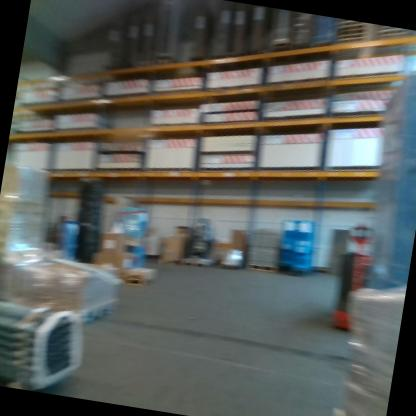pallet: (120, 271, 151, 296), (244, 260, 279, 280), (268, 36, 292, 63), (154, 52, 175, 80), (181, 255, 209, 273)
pallet_truck: (326, 211, 390, 330)
